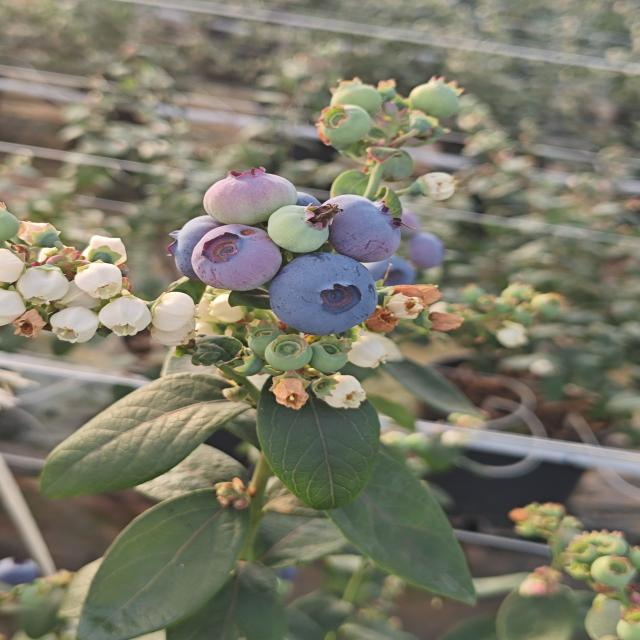ripe: (266, 251, 381, 336), (188, 222, 284, 293), (160, 213, 244, 282), (326, 196, 404, 254), (359, 250, 417, 294), (406, 221, 456, 270), (0, 548, 52, 591), (288, 178, 329, 222)
